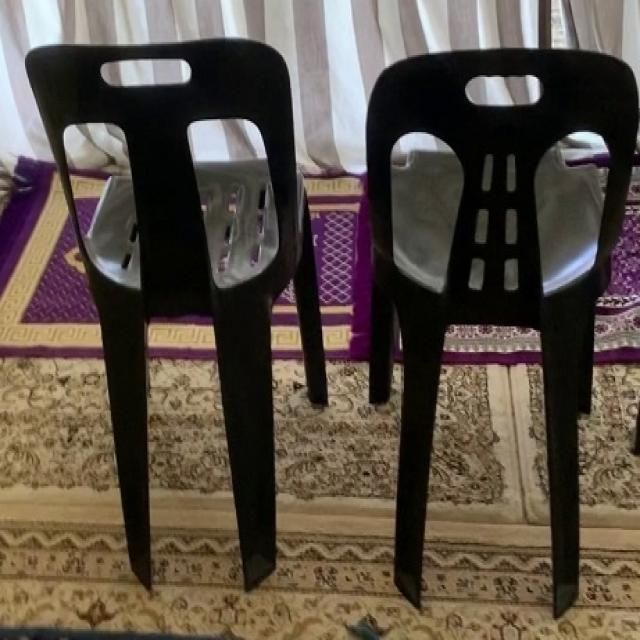chair: (24, 33, 334, 600), (359, 40, 640, 623)
